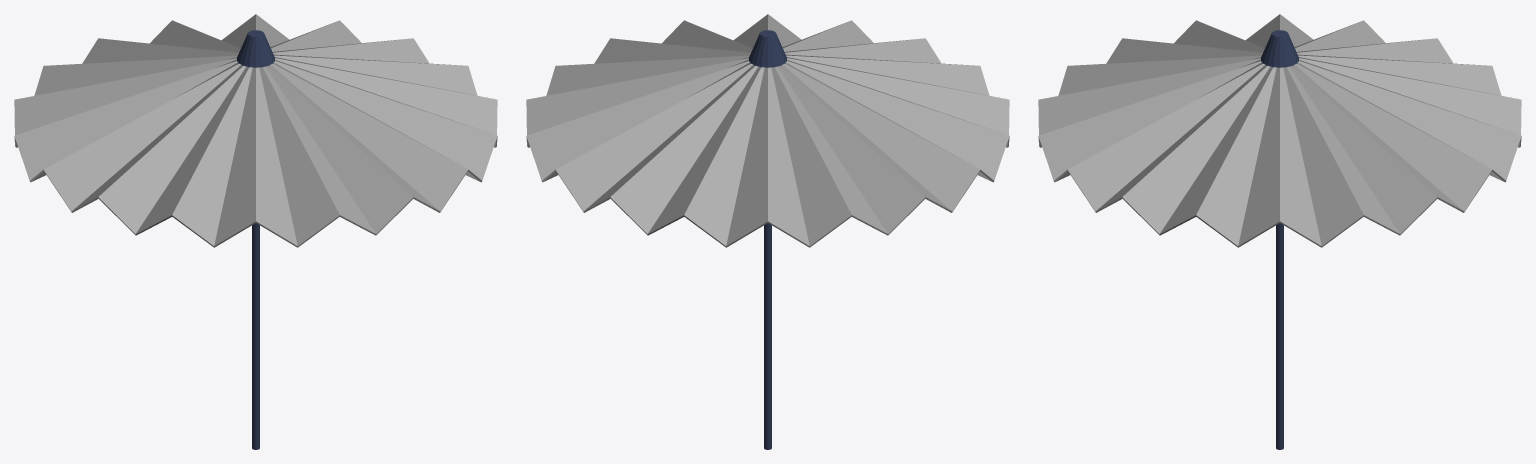
File: Umbrella.fbx
The picture shows the model from 3 angles, left to right: view 1: azimuth 30°, elevation 25°; view 2: azimuth 150°, elevation 25°; view 3: azimuth 270°, elevation 25°; orthographic projection.
Parts seen in each view (by area): view 1: Umbrella_GEO; view 2: Umbrella_GEO; view 3: Umbrella_GEO.
Part boxes in pixels (x1,y1,x2,y2): Umbrella_GEO: [14, 14, 497, 449]; Umbrella_GEO: [526, 14, 1009, 449]; Umbrella_GEO: [1038, 14, 1521, 449].
Size of the model in its own units: 702 by 654 by 691.
